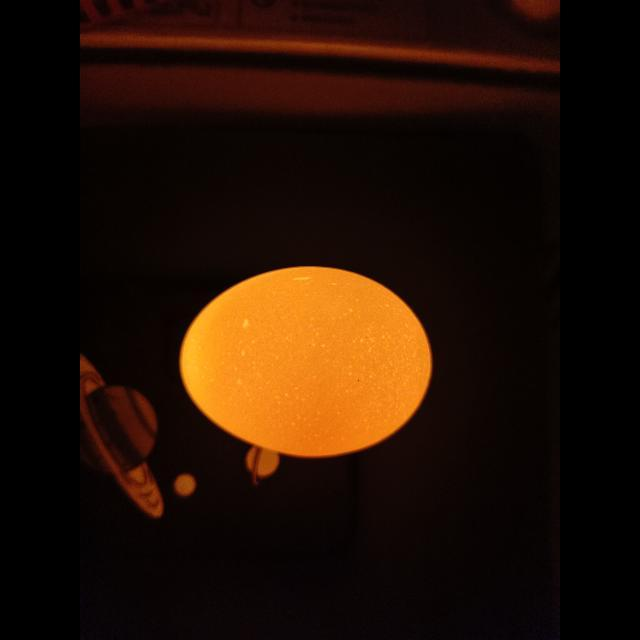AA - Premium: (180, 266, 431, 458)
